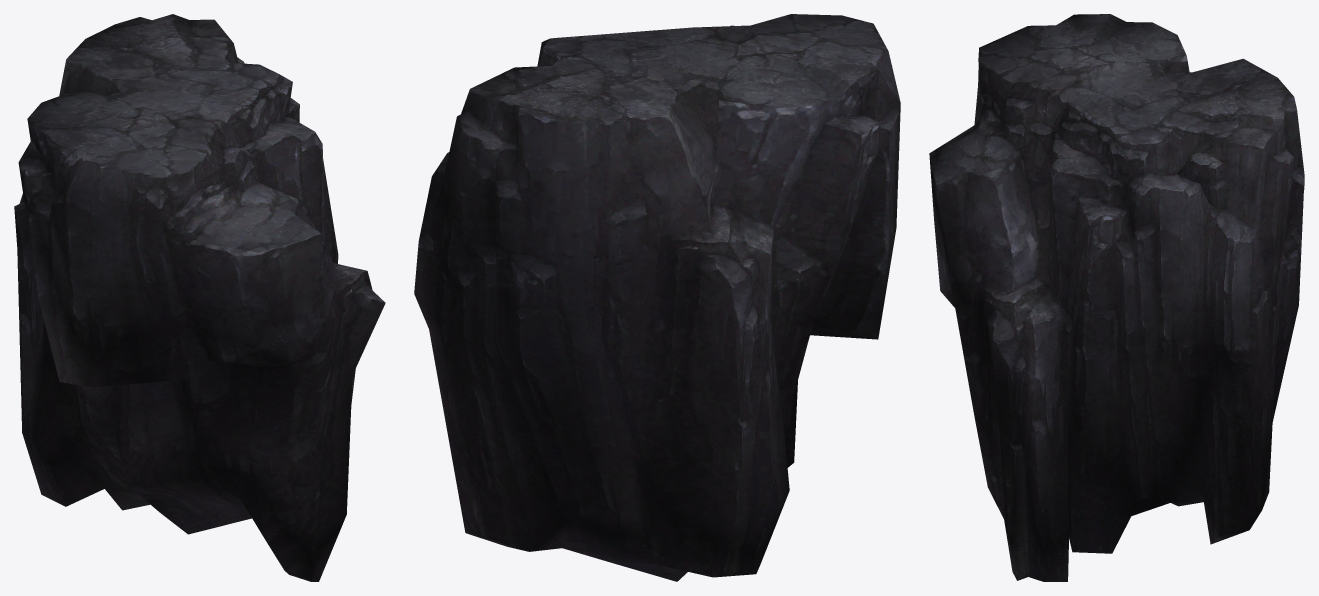
The model's file is ruisi_shanti06.FBX.
The picture shows the model from 3 angles, left to right: view 1: azimuth 30°, elevation 25°; view 2: azimuth 150°, elevation 25°; view 3: azimuth 270°, elevation 25°; orthographic projection. The views are drawn at different scales.
Parts seen in each view (by area): view 1: ruisi_shanti06; view 2: ruisi_shanti06; view 3: ruisi_shanti06.
Boxes of the visible parts, left/top/right/bottom form: ruisi_shanti06: left=14, top=14, right=385, bottom=581; ruisi_shanti06: left=414, top=14, right=900, bottom=581; ruisi_shanti06: left=929, top=14, right=1304, bottom=581.
Size of the model in its own units: 265 by 371 by 272.
